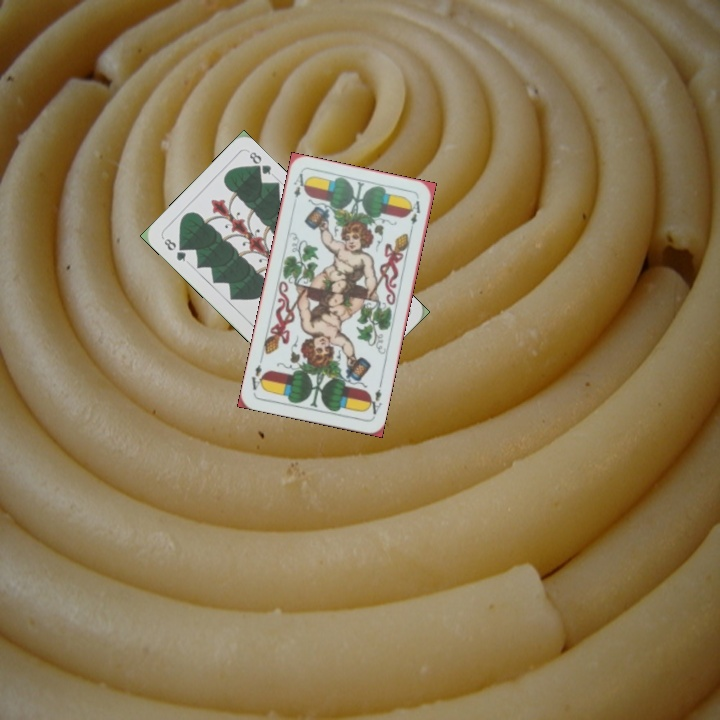EA: (363, 379, 385, 417), (289, 169, 309, 209)
G8: (160, 234, 189, 264)
